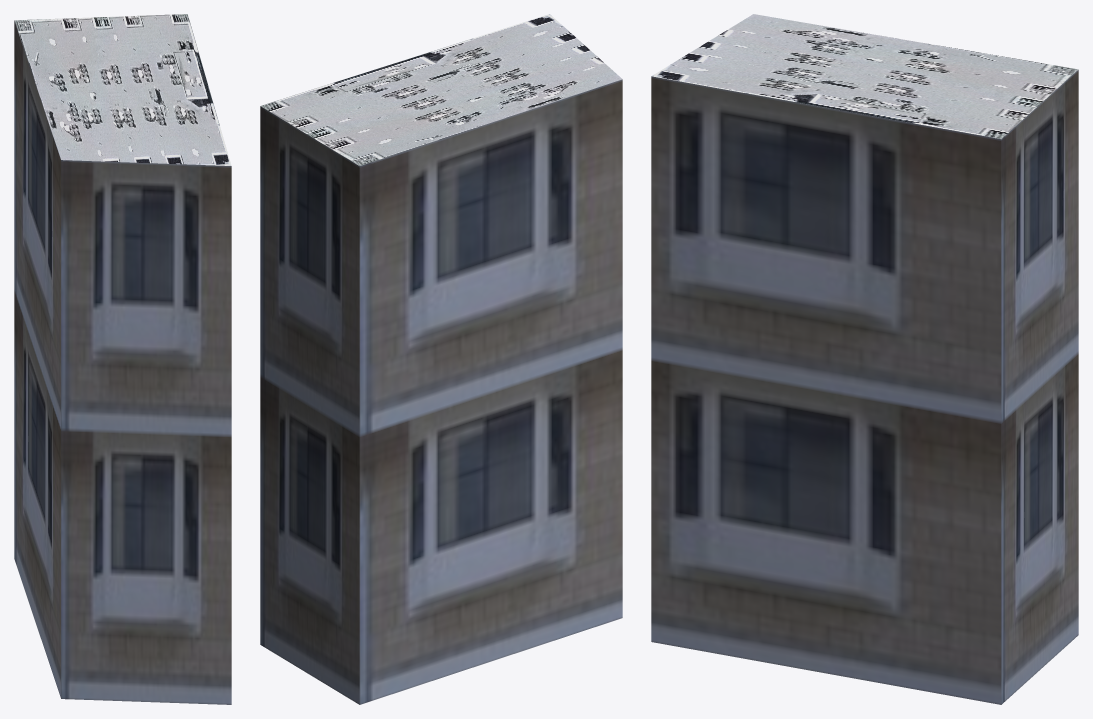
File: ResTex__2076.fbx
3 views of the same model, side by side, from view 1: azimuth 30°, elevation 25°; view 2: azimuth 150°, elevation 25°; view 3: azimuth 270°, elevation 25° (orthographic). The views are drawn at different scales.
Parts seen in each view (by area): view 1: CityEngineMaterial_3_m, CityEngineMaterial_2_m; view 2: CityEngineMaterial_3_m, CityEngineMaterial_2_m; view 3: CityEngineMaterial_3_m, CityEngineMaterial_2_m.
Boxes of the visible parts, left/top/right/bottom form: CityEngineMaterial_3_m: left=14, top=20, right=231, bottom=704; CityEngineMaterial_2_m: left=14, top=14, right=231, bottom=165; CityEngineMaterial_3_m: left=260, top=79, right=622, bottom=704; CityEngineMaterial_2_m: left=260, top=14, right=622, bottom=165; CityEngineMaterial_3_m: left=651, top=70, right=1078, bottom=704; CityEngineMaterial_2_m: left=652, top=14, right=1078, bottom=139.
Size of the model in its own units: 2.85 by 6 by 4.11.
Materials: 2 (2 with a texture image).
